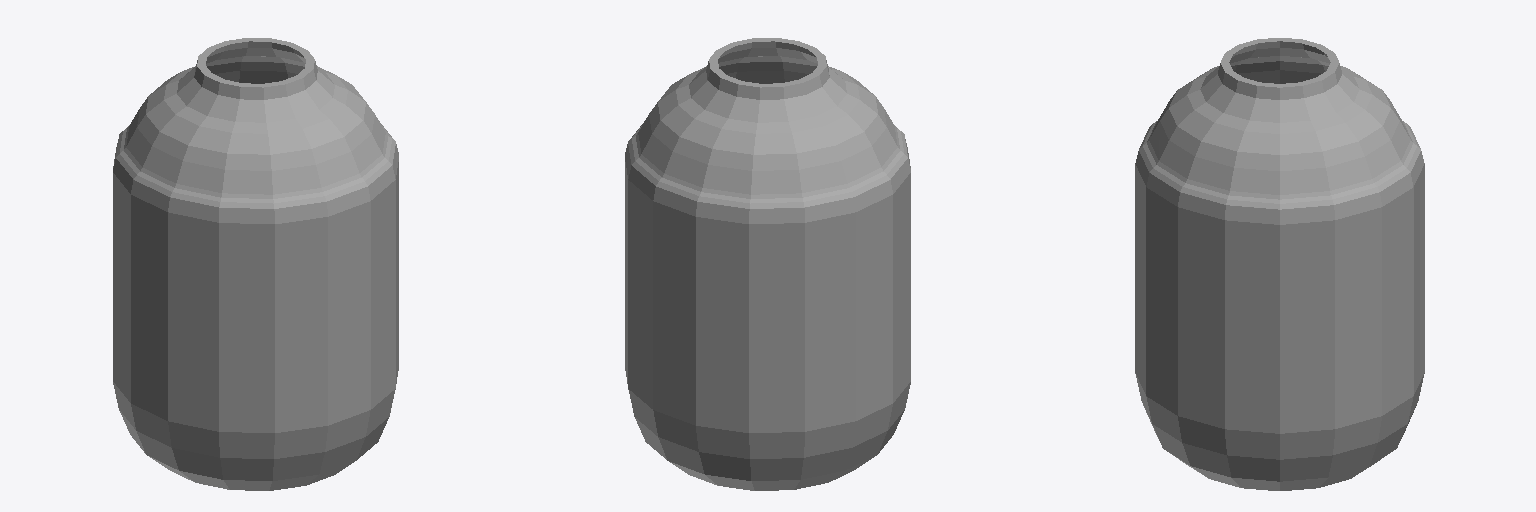
The model's file is Soap_Bottle_10_3.obj.
3 views of the same model, side by side, from view 1: azimuth 30°, elevation 25°; view 2: azimuth 150°, elevation 25°; view 3: azimuth 270°, elevation 25° (orthographic).
Size of the model in its own units: 0.1239 by 0.1828 by 0.1239.